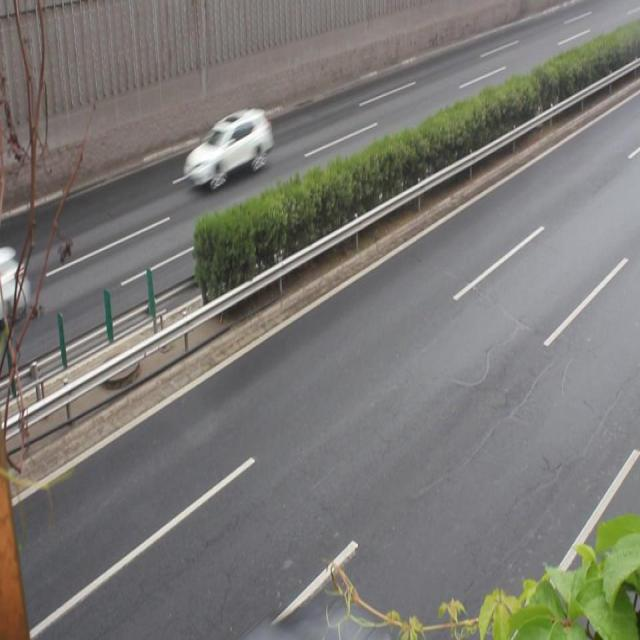car: (187, 106, 274, 186), (1, 243, 26, 327)
